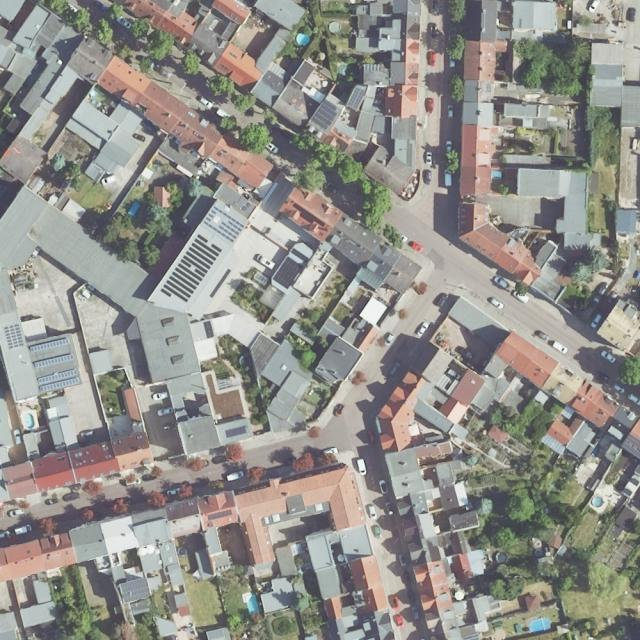PV: (160, 233, 223, 302), (203, 205, 246, 243), (37, 368, 79, 393), (271, 256, 302, 288), (119, 577, 151, 604), (310, 99, 337, 131), (29, 338, 70, 353), (35, 353, 74, 368), (3, 323, 24, 350), (346, 86, 366, 110), (622, 435, 640, 458), (210, 209, 229, 228), (427, 541, 442, 561), (291, 248, 309, 264), (336, 138, 349, 153), (462, 633, 479, 640)
ST: (207, 509, 231, 520), (225, 426, 247, 437)
